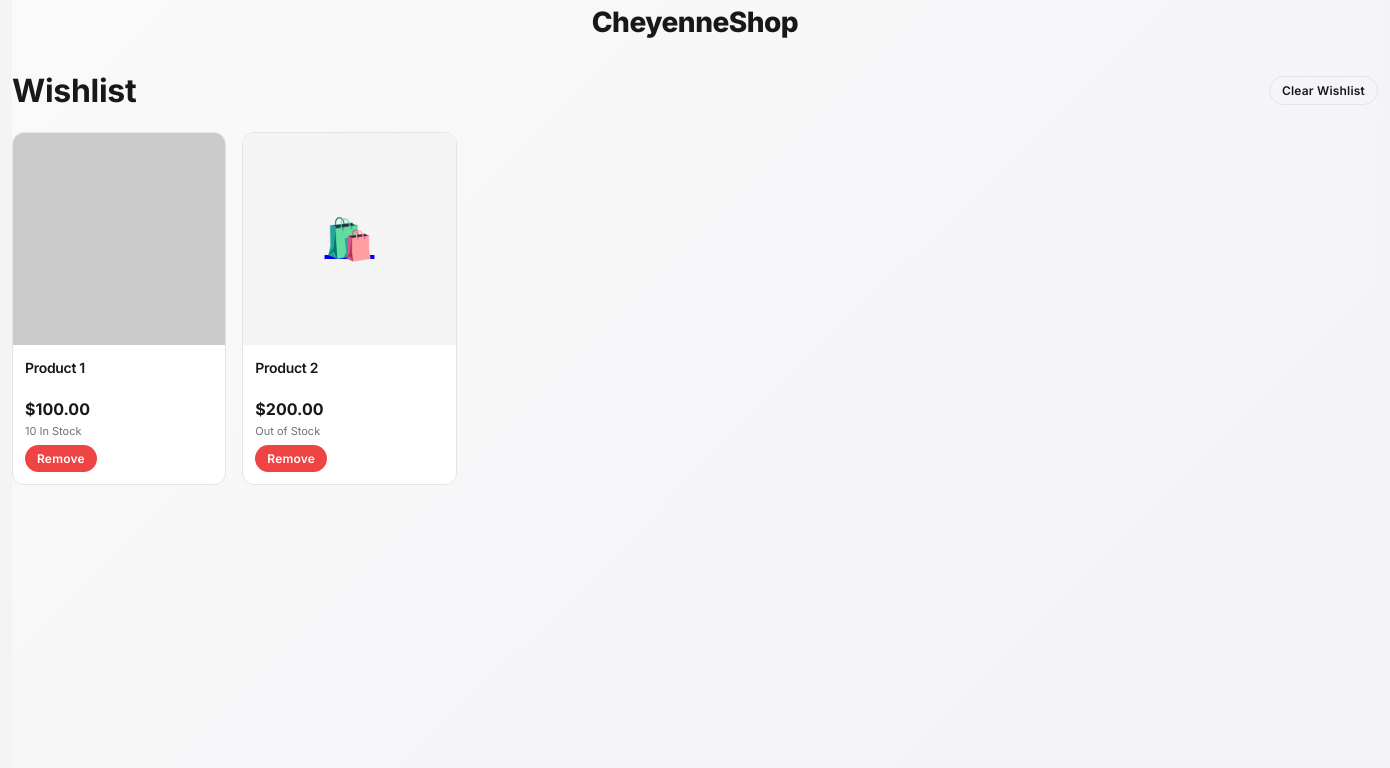
Test: Wishlist › Remove Item › should show error when remove fails
Click the button "Remove" below "10 In Stock".
click(61, 458)  # box left=25, top=444, right=97, bottom=472
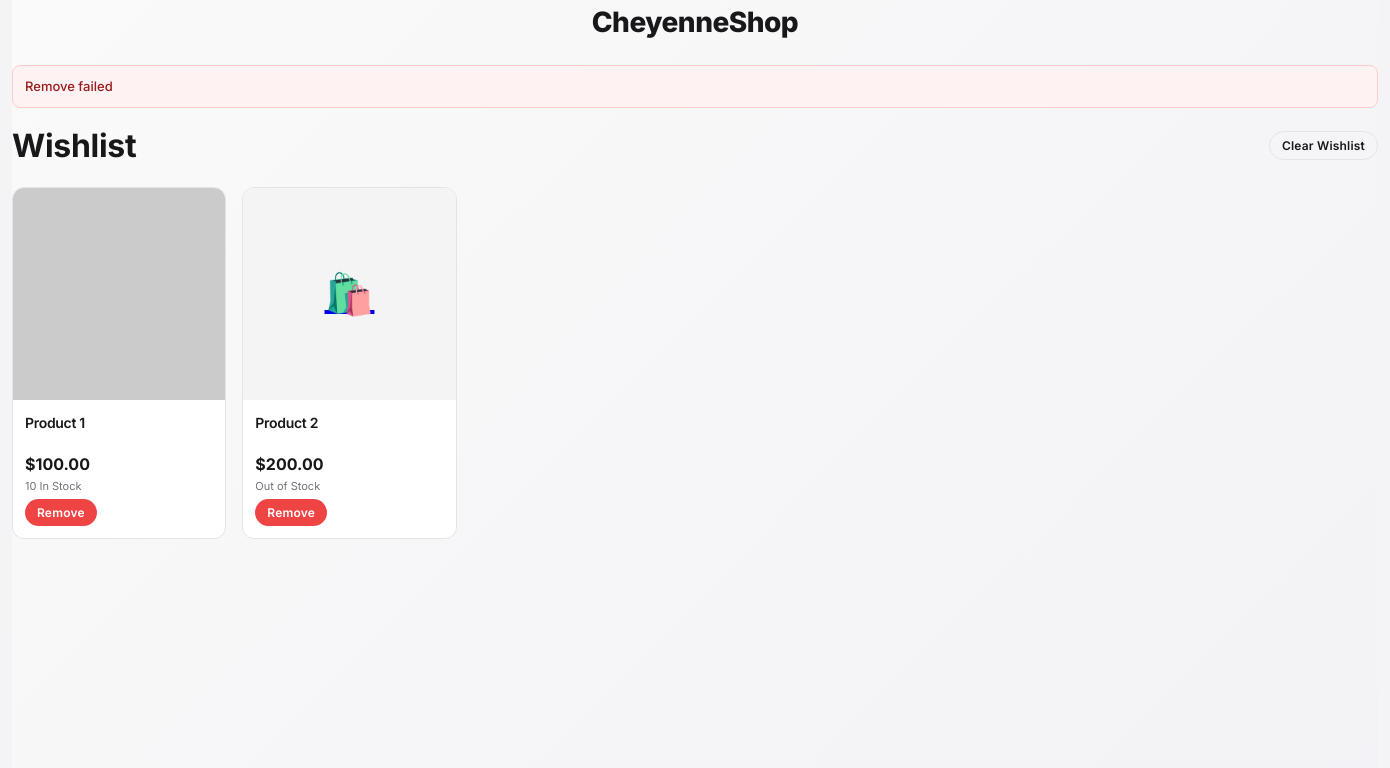
Check: the text "Remove failed" is shown, box left=12, top=65, right=1378, bottom=108
